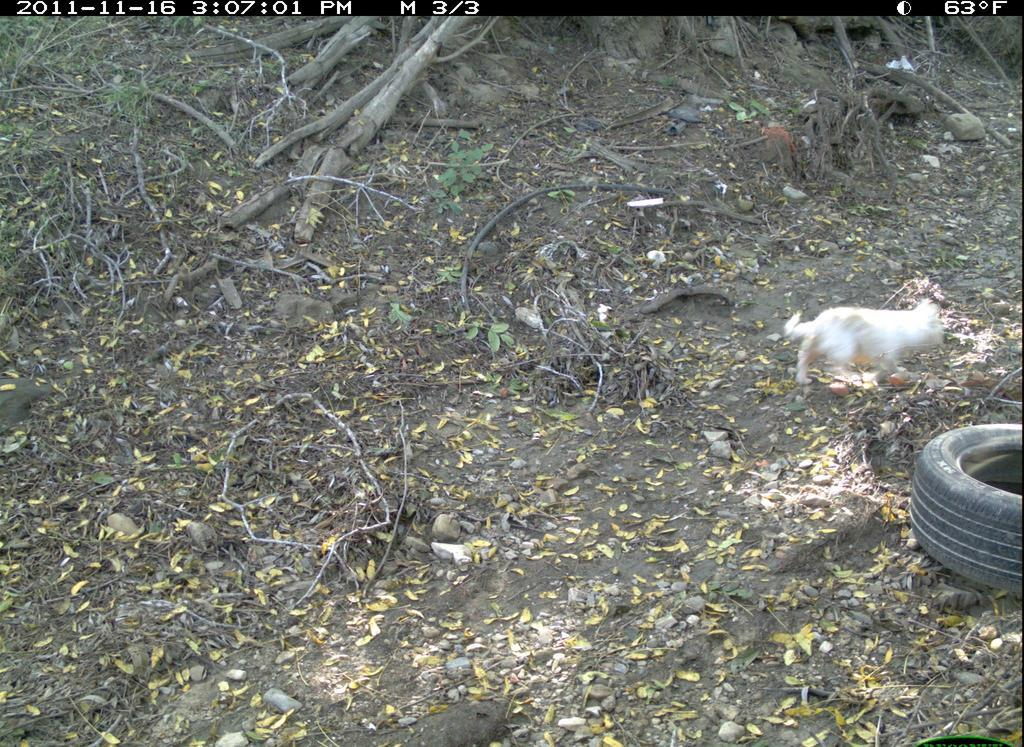dog: (779, 294, 962, 397)
